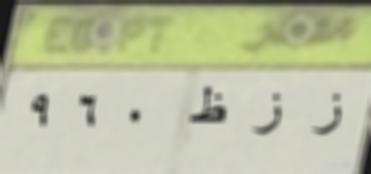0: (123, 100, 151, 133)
6: (74, 90, 102, 133)
9: (26, 83, 56, 135)
Thaa: (185, 82, 232, 140)
zay: (308, 86, 348, 141), (252, 84, 285, 138)
